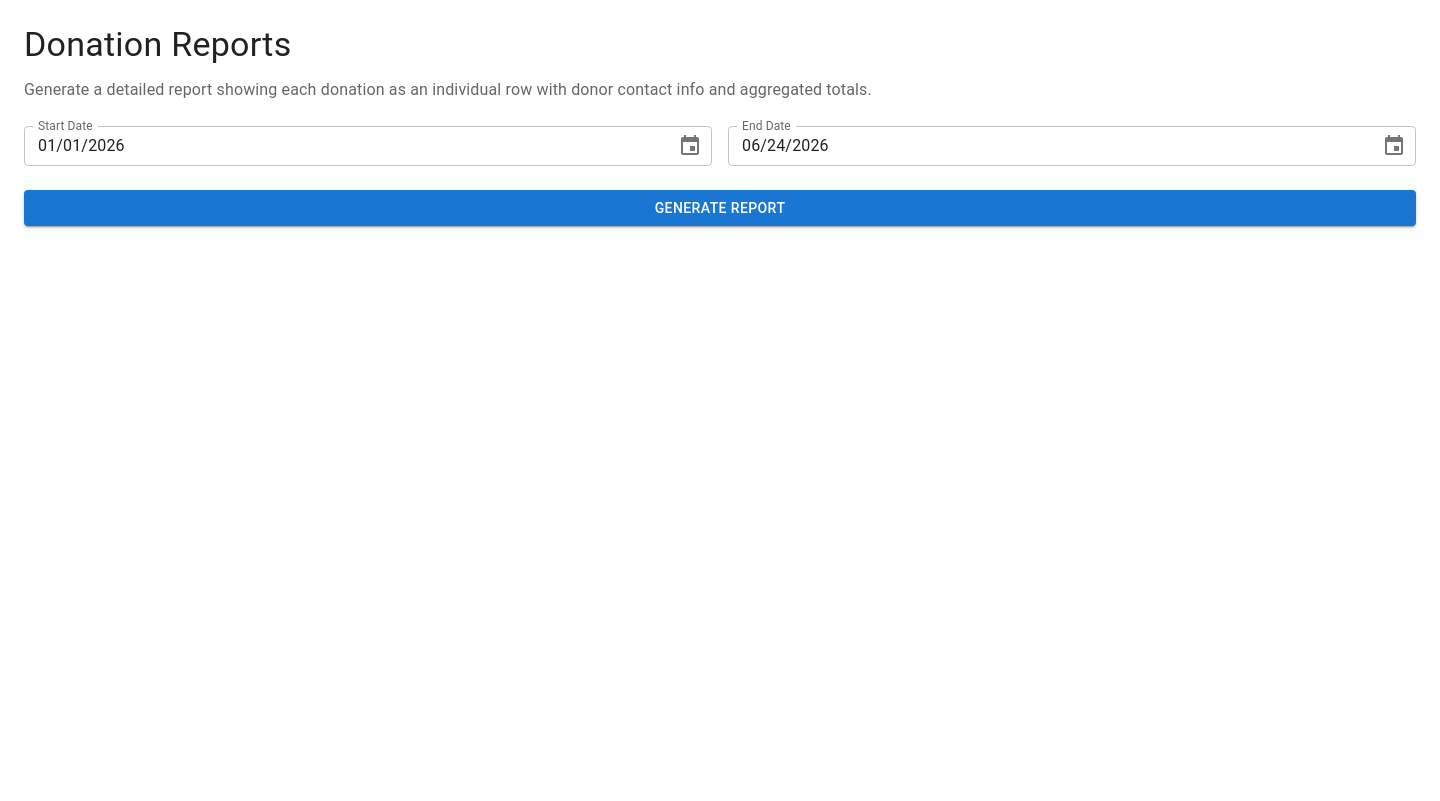
Test: ReportsPage › fetches and displays report data when Generate Report button is clicked
This screenshot has width=1440, height=801.
Click the button "Generate Report": click(720, 208) x1=24 y1=190 x2=1416 y2=226
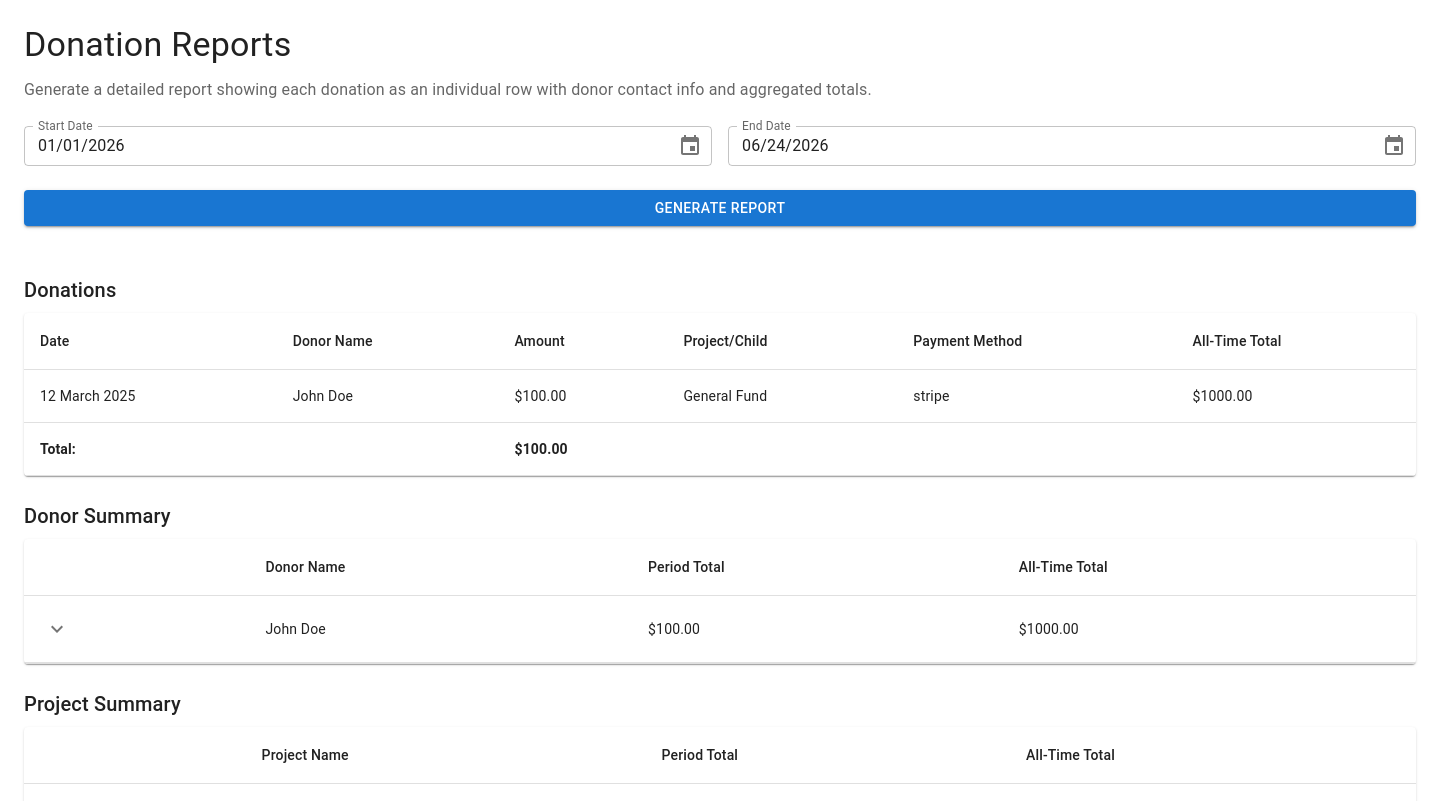
Expected: the text "12 March 2025" is shown, x1=24 y1=370 x2=277 y2=423
Expected: the text "John Doe" next to "12 March 2025" is shown, x1=293 y1=388 x2=353 y2=404
Expected: the text "General Fund" in the row of "12 March 2025" is shown, x1=683 y1=388 x2=767 y2=404
